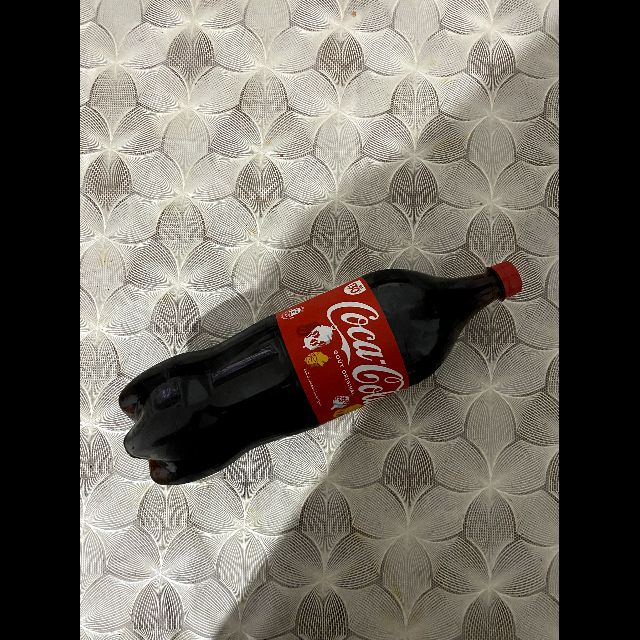coca-cola GB: (114, 257, 526, 483)
